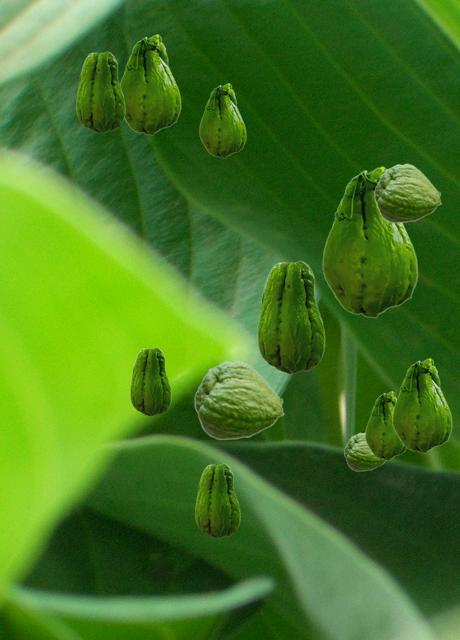sayote: (322, 166, 417, 317), (257, 260, 324, 373), (194, 360, 284, 439), (120, 34, 180, 134), (392, 358, 451, 452), (374, 163, 441, 222), (76, 51, 124, 132), (199, 83, 245, 157), (195, 463, 239, 537), (365, 391, 406, 459), (130, 347, 170, 415), (344, 432, 387, 470)
